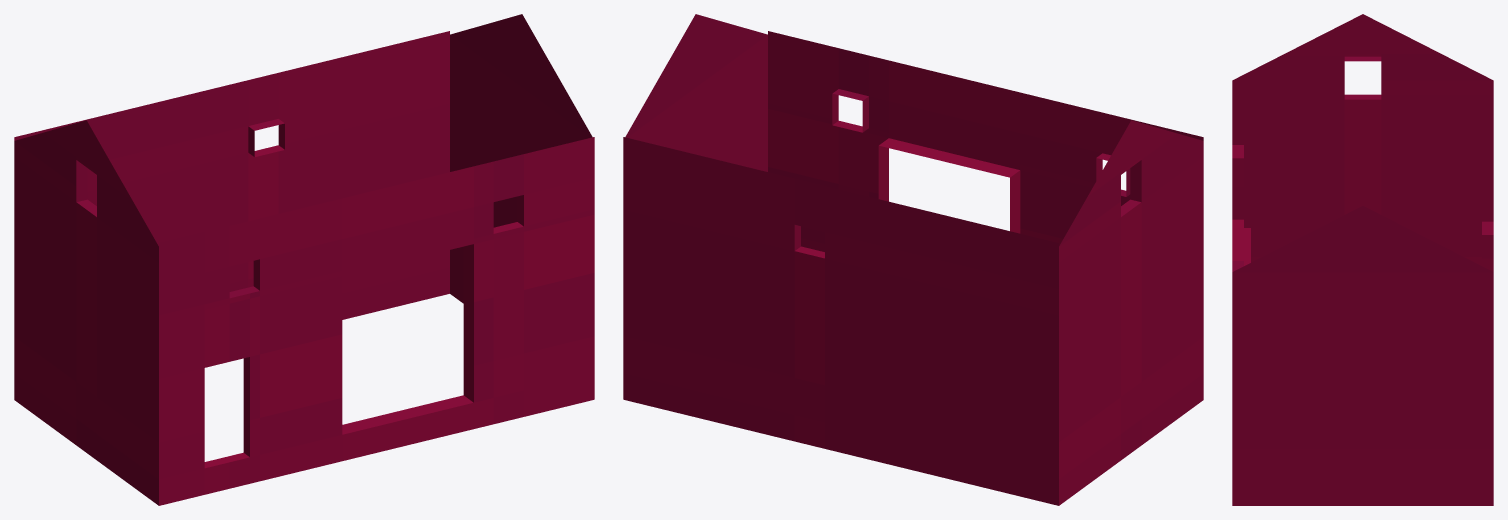
File: SM_Bld_217_Masonry.glb
The picture shows the model from 3 angles, left to right: view 1: azimuth 30°, elevation 25°; view 2: azimuth 150°, elevation 25°; view 3: azimuth 270°, elevation 25°; orthographic projection. The views are drawn at different scales.
Parts seen in each view (by area): view 1: SM_Bld_217_Masonry; view 2: SM_Bld_217_Masonry; view 3: SM_Bld_217_Masonry.
Part boxes in pixels (left/top/right/bottom): SM_Bld_217_Masonry: left=14, top=14, right=594, bottom=505; SM_Bld_217_Masonry: left=623, top=14, right=1203, bottom=505; SM_Bld_217_Masonry: left=1232, top=14, right=1493, bottom=505.
Size of the model in its own units: 8.62 by 6.29 by 4.96.
